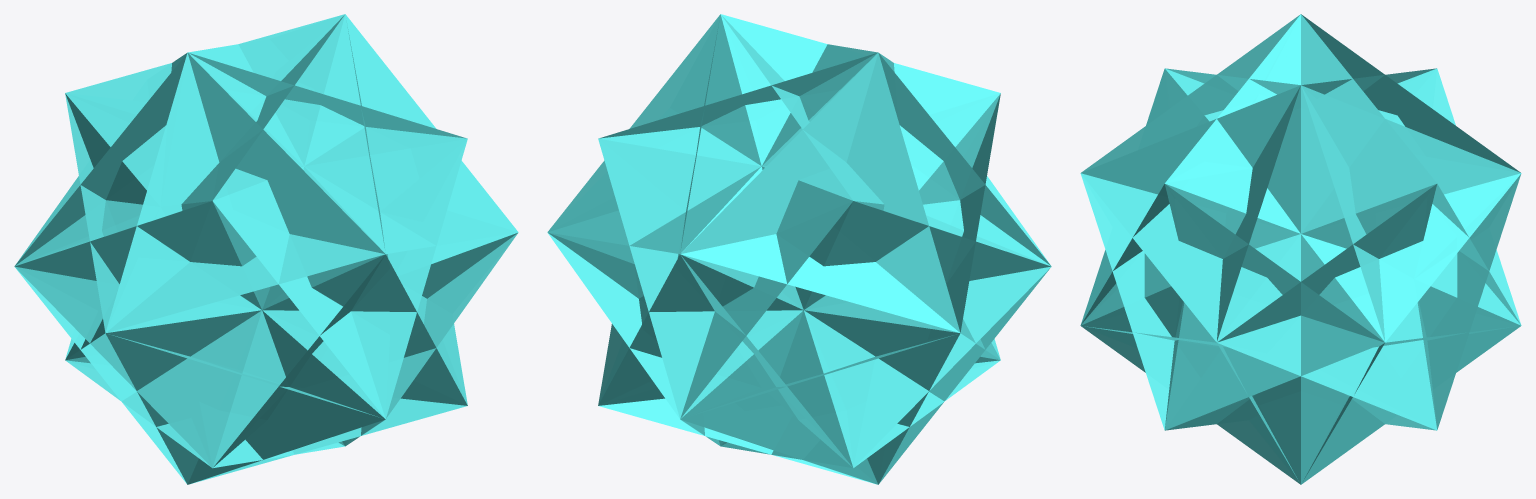
File: GreatDodecicosacron.obj
The picture shows the model from 3 angles, left to right: view 1: azimuth 30°, elevation 25°; view 2: azimuth 150°, elevation 25°; view 3: azimuth 270°, elevation 25°; orthographic projection. The views are drawn at different scales.
Bounding box in the file's own units: 3.62 × 3.62 × 3.62.
